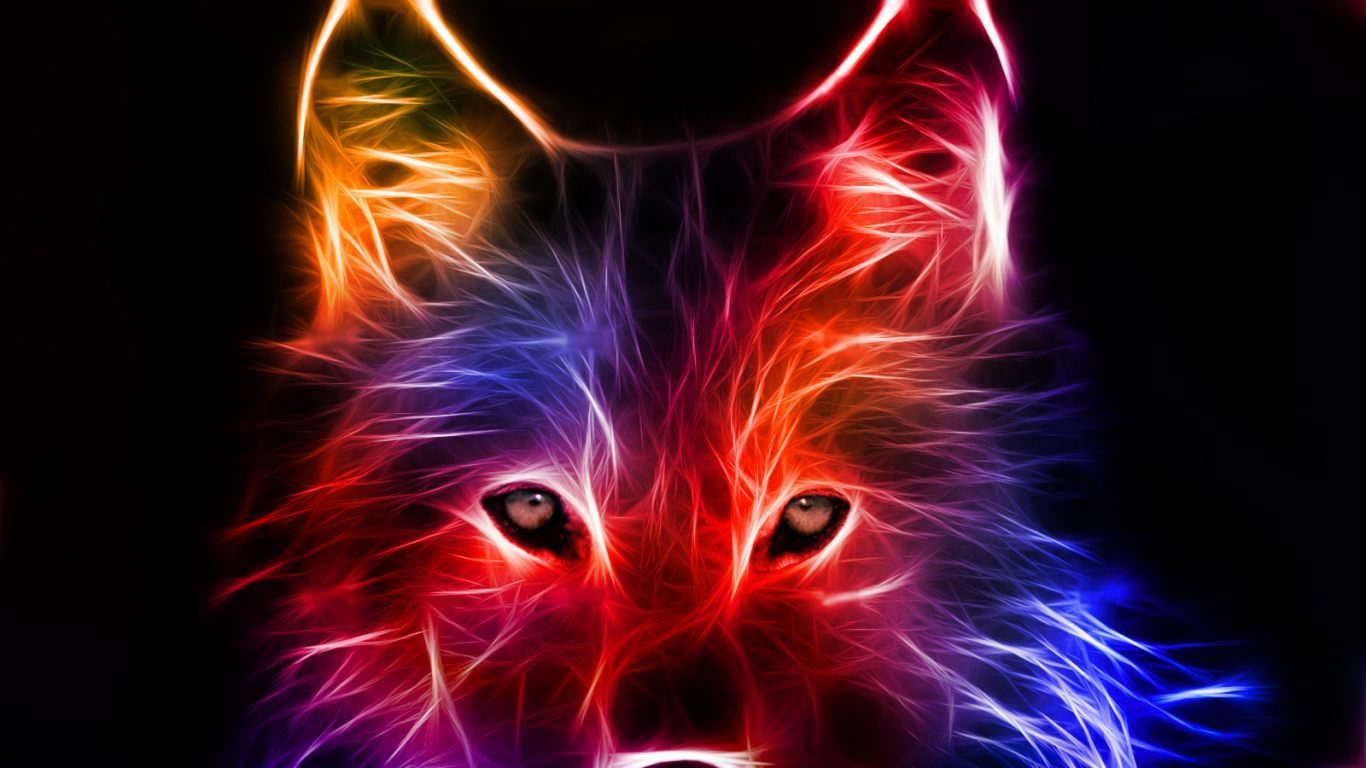Lobo: (260, 9, 1065, 768)
